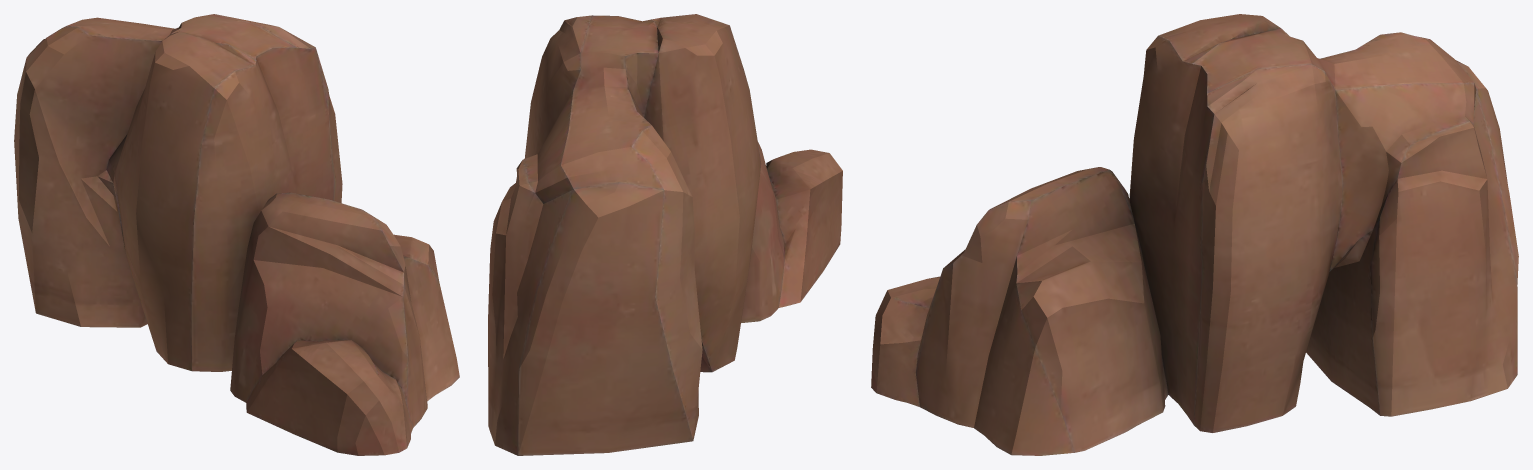
The picture shows the model from 3 angles, left to right: view 1: azimuth 30°, elevation 25°; view 2: azimuth 150°, elevation 25°; view 3: azimuth 270°, elevation 25°; orthographic projection. The views are drawn at different scales.
Visible parts, largest first — view 1: body0_model0_lod0_mesh0; view 2: body0_model0_lod0_mesh0; view 3: body0_model0_lod0_mesh0.
Part boxes in pixels (x1,y1,x2,y2): body0_model0_lod0_mesh0: (14,14,459,455); body0_model0_lod0_mesh0: (488,14,842,455); body0_model0_lod0_mesh0: (871,14,1518,455).
Bounding box in the file's own units: 211 × 235 × 403.
Materials: 1 (1 with a texture image).
